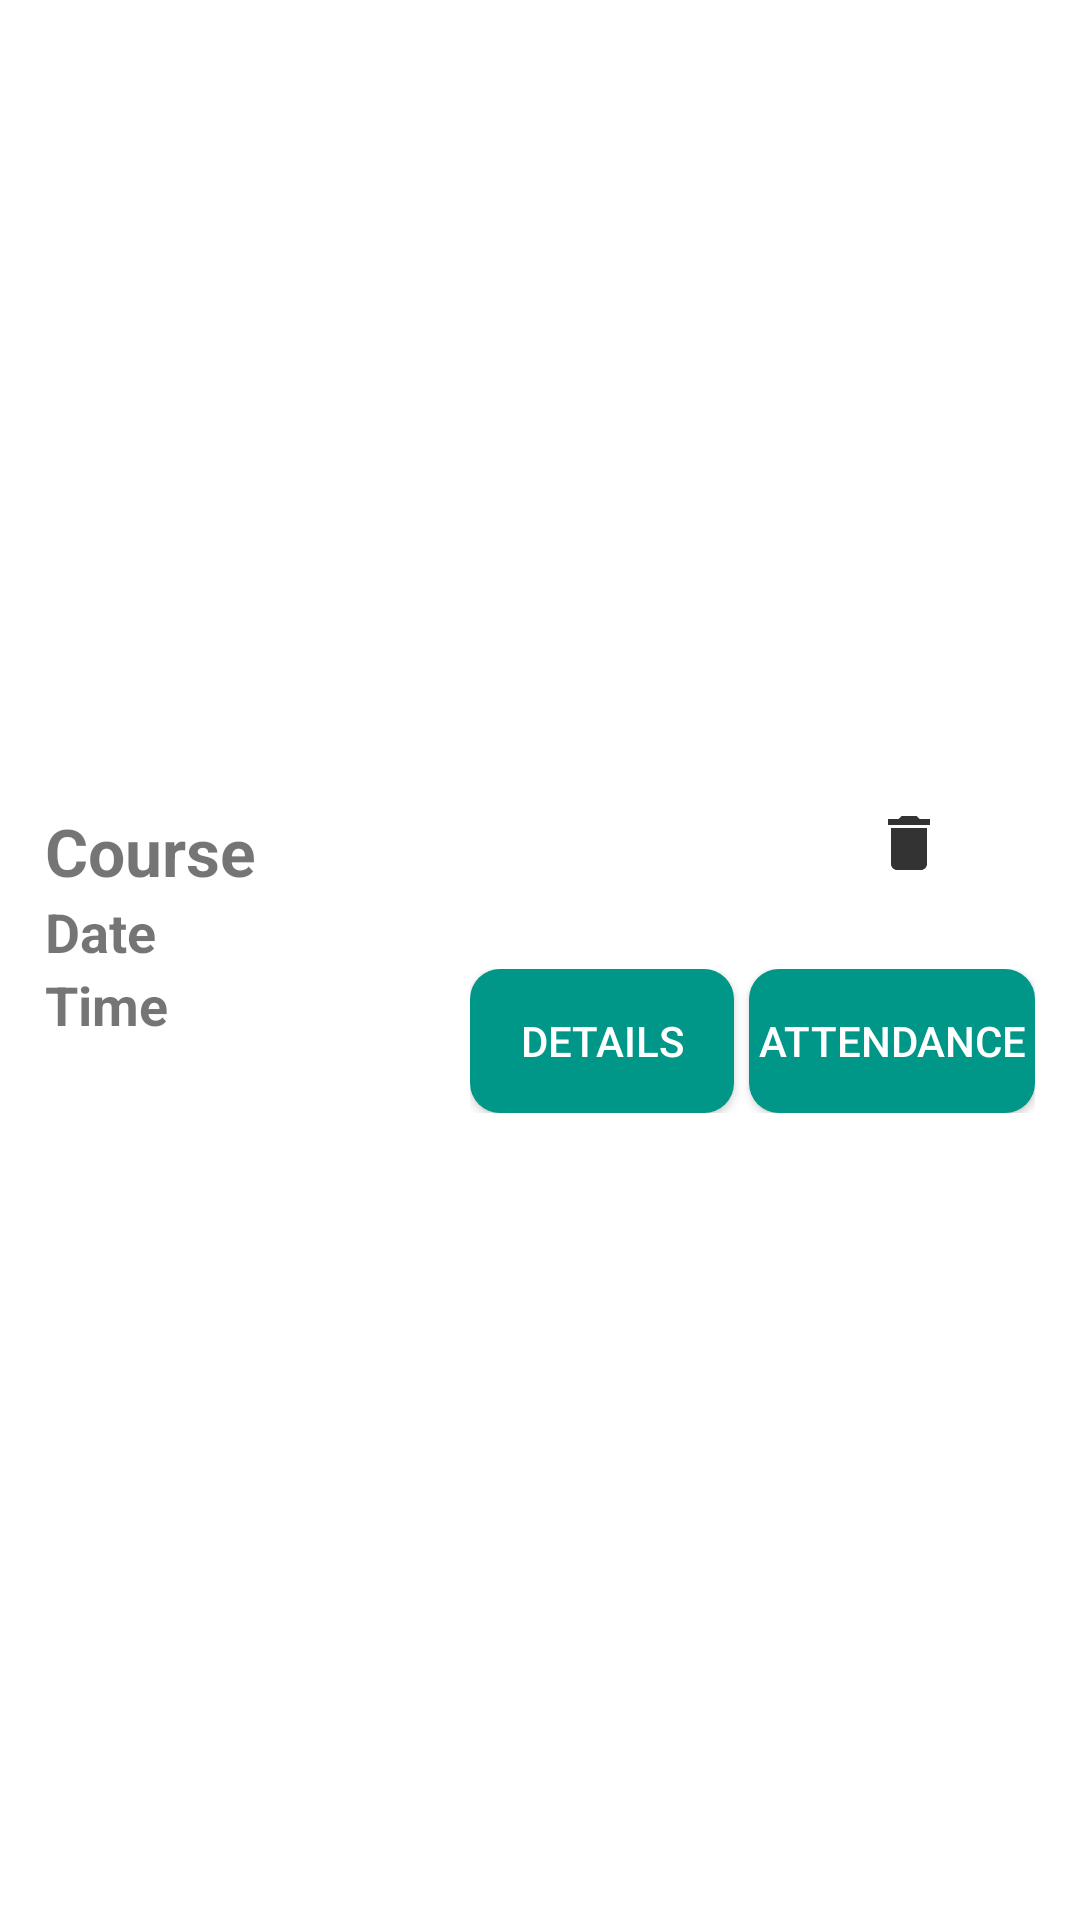

Locate icon controls on the screen. Image size 1080 x 1920, boxes as (x1=x1, y1=y1, x2=x2, y2=y2).
delete: (x1=888, y1=816, x2=930, y2=870)
